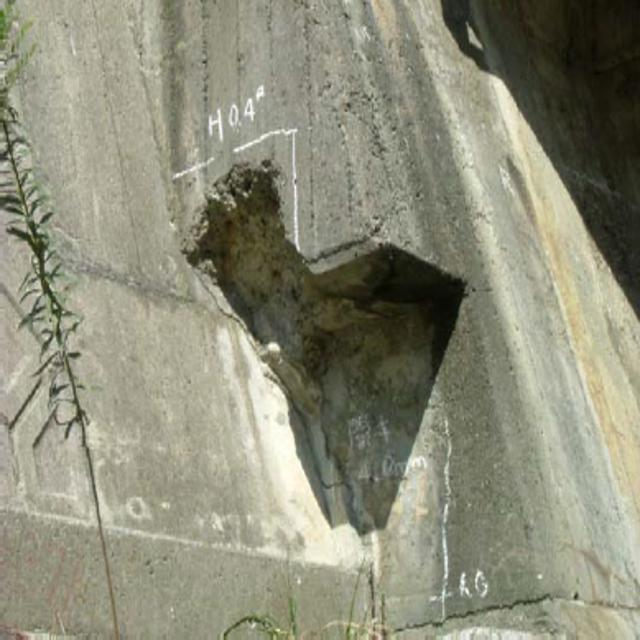spalling: (182, 146, 362, 391)
